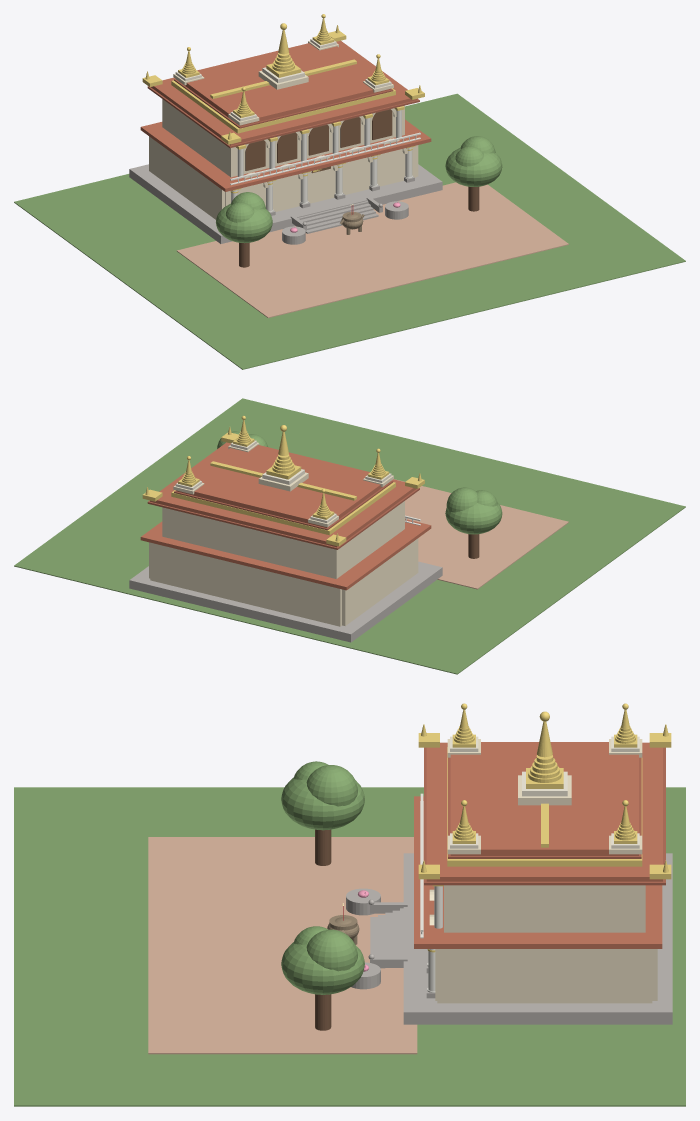
The model's file is chua_vinh_trang_blender.glb.
The picture shows the model from 3 angles, top to bottom: view 1: azimuth 30°, elevation 25°; view 2: azimuth 150°, elevation 25°; view 3: azimuth 270°, elevation 25°; orthographic projection. The views are drawn at different scales.
Parts seen in each view (by area): view 1: Tham_Co_Vuon_Chua, San_Chua_Gach_BatTrang, Mai_Chinh_Tang_2_Tren, Be_Mong_Chua, Tuong_Mat_Tien_Tang_1, Mai_Hien_Tang_1, Mai_Chinh_Tang_2_Duoi, Tuong_Nha_Tang_2, Tuong_Ben_Trai_Tang_1, Cay_Bo_De_Phai_Tan_1, Cay_Bo_De_Trai_Tan_1, Co_Diem_Thong_Gio (+8 smaller); view 2: Tham_Co_Vuon_Chua, Mai_Chinh_Tang_2_Tren, San_Chua_Gach_BatTrang, Tuong_Sau_Chanh_Dien, Tuong_Nha_Tang_2, Be_Mong_Chua, Mai_Hien_Tang_1, Mai_Chinh_Tang_2_Duoi, Tuong_Ben_Trai_Tang_1, Cay_Bo_De_Trai_Tan_1, Co_Diem_Thong_Gio, Vien_Mai_Ha (+3 smaller); view 3: Tham_Co_Vuon_Chua, San_Chua_Gach_BatTrang, Mai_Chinh_Tang_2_Tren, Tuong_Ben_Phai_Tang_1, Be_Mong_Chua, Tuong_Nha_Tang_2, Mai_Chinh_Tang_2_Duoi, Mai_Hien_Tang_1, Cay_Bo_De_Trai_Tan_1, Cay_Bo_De_Phai_Tan_1, Vien_Mai_Ha, Co_Diem_Thong_Gio (+7 smaller).
Boxes of the visible parts, x1,y1,x2,y2 form: Tham_Co_Vuon_Chua: (14,93,685,369); San_Chua_Gach_BatTrang: (176,182,568,318); Mai_Chinh_Tang_2_Tren: (176,43,390,126); Be_Mong_Chua: (129,164,442,243); Tuong_Mat_Tien_Tang_1: (225,146,415,211); Mai_Hien_Tang_1: (140,119,431,191); Mai_Chinh_Tang_2_Duoi: (151,40,417,145); Tuong_Nha_Tang_2: (162,99,404,177); Tuong_Ben_Trai_Tang_1: (149,136,225,219); Cay_Bo_De_Phai_Tan_1: (445,147,502,186); Cay_Bo_De_Trai_Tan_1: (216,203,272,243); Co_Diem_Thong_Gio: (171,80,395,133); Tham_Co_Vuon_Chua: (14,398,685,674); Mai_Chinh_Tang_2_Tren: (176,445,390,527); San_Chua_Gach_BatTrang: (394,479,568,589); Tuong_Sau_Chanh_Dien: (150,542,341,626); Tuong_Nha_Tang_2: (162,501,404,578); Be_Mong_Chua: (129,561,442,642); Mai_Hien_Tang_1: (140,519,431,590); Mai_Chinh_Tang_2_Duoi: (150,442,416,547); Tuong_Ben_Trai_Tang_1: (342,538,418,625); Cay_Bo_De_Trai_Tan_1: (445,502,502,534); Co_Diem_Thong_Gio: (171,482,395,535); Vien_Mai_Ha: (147,488,419,549); Tham_Co_Vuon_Chua: (14,787,685,1106); San_Chua_Gach_BatTrang: (148,837,417,1054); Mai_Chinh_Tang_2_Tren: (450,742,638,855); Tuong_Ben_Phai_Tang_1: (437,949,652,1003); Be_Mong_Chua: (403,853,672,1024); Tuong_Nha_Tang_2: (444,885,645,932); Mai_Chinh_Tang_2_Duoi: (426,742,662,881); Mai_Hien_Tang_1: (414,796,662,948); Cay_Bo_De_Trai_Tan_1: (281,777,364,830); Cay_Bo_De_Phai_Tan_1: (281,942,364,994); Vien_Mai_Ha: (424,747,665,885); Co_Diem_Thong_Gio: (447,747,642,866).
Bounding box in the file's own units: 56 × 19.33 × 50.
